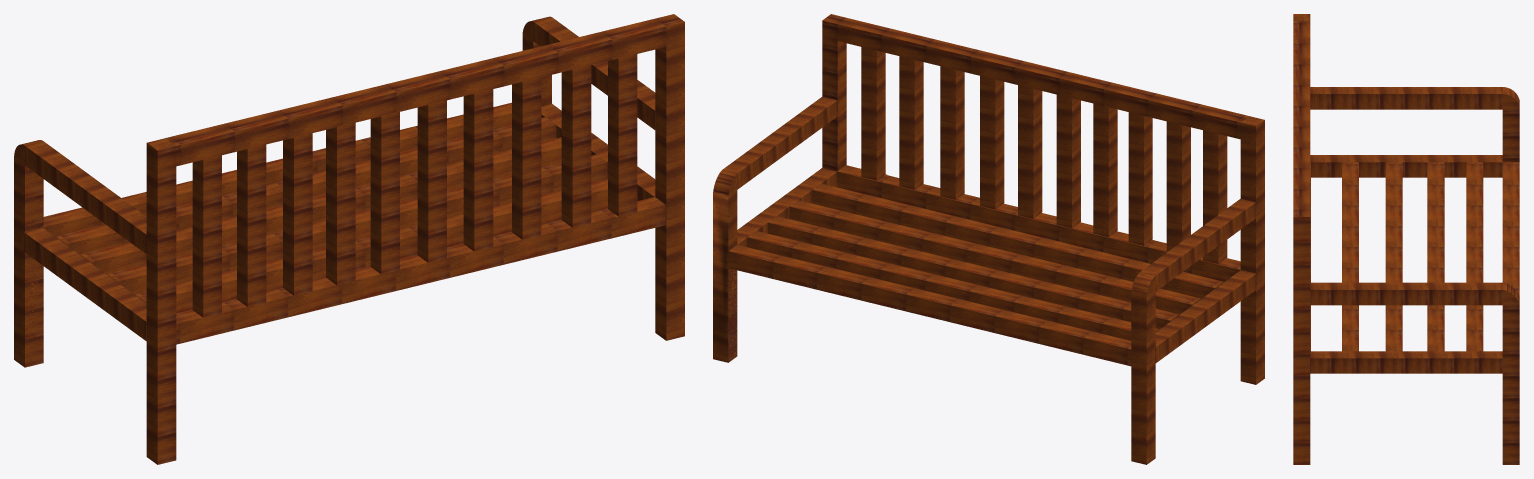
The picture shows the model from 3 angles, left to right: view 1: azimuth 30°, elevation 25°; view 2: azimuth 150°, elevation 25°; view 3: azimuth 270°, elevation 25°; orthographic projection. The views are drawn at different scales.
Visible parts, largest first — view 1: mesh91_mesh91-geometry, mesh48_mesh48-geometry, mesh46_mesh46-geometry, mesh93_mesh93-geometry, mesh26_mesh26-geometry, mesh58_mesh58-geometry, mesh41_mesh41-geometry, mesh31_mesh31-geometry, mesh74_mesh74-geometry, mesh1_mesh1-geometry, mesh6_mesh6-geometry, mesh69_mesh69-geometry (+12 smaller); view 2: mesh91_mesh91-geometry, mesh84_mesh84-geometry, mesh41_mesh41-geometry, mesh26_mesh26-geometry, mesh48_mesh48-geometry, mesh58_mesh58-geometry, mesh1_mesh1-geometry, mesh46_mesh46-geometry, mesh93_mesh93-geometry, mesh92_mesh92-geometry, mesh16_mesh16-geometry, mesh69_mesh69-geometry (+12 smaller); view 3: mesh91_mesh91-geometry, mesh89_mesh89-geometry, mesh65_mesh65-geometry, mesh67_mesh67-geometry, mesh63_mesh63-geometry, mesh92_mesh92-geometry, mesh58_mesh58-geometry, mesh1_mesh1-geometry, mesh26_mesh26-geometry, mesh41_mesh41-geometry, mesh84_mesh84-geometry, mesh93_mesh93-geometry.
Boxes of the visible parts, <box> form: mesh91_mesh91-geometry: <box>165,14,684,340</box>; mesh48_mesh48-geometry: <box>176,197,665,344</box>; mesh46_mesh46-geometry: <box>146,138,176,464</box>; mesh93_mesh93-geometry: <box>14,140,43,367</box>; mesh26_mesh26-geometry: <box>107,154,607,294</box>; mesh58_mesh58-geometry: <box>80,137,561,274</box>; mesh41_mesh41-geometry: <box>134,178,607,313</box>; mesh31_mesh31-geometry: <box>561,64,591,227</box>; mesh74_mesh74-geometry: <box>463,88,493,251</box>; mesh1_mesh1-geometry: <box>56,117,556,254</box>; mesh6_mesh6-geometry: <box>512,76,541,239</box>; mesh69_mesh69-geometry: <box>608,53,637,216</box>; mesh91_mesh91-geometry: <box>822,14,1249,171</box>; mesh84_mesh84-geometry: <box>728,245,1131,366</box>; mesh41_mesh41-geometry: <box>812,183,1223,298</box>; mesh26_mesh26-geometry: <box>789,200,1201,314</box>; mesh48_mesh48-geometry: <box>837,165,1240,281</box>; mesh58_mesh58-geometry: <box>767,216,1179,329</box>; mesh1_mesh1-geometry: <box>747,231,1159,340</box>; mesh46_mesh46-geometry: <box>1240,116,1264,384</box>; mesh93_mesh93-geometry: <box>1131,272,1155,464</box>; mesh92_mesh92-geometry: <box>713,170,737,362</box>; mesh16_mesh16-geometry: <box>1128,112,1152,245</box>; mesh69_mesh69-geometry: <box>861,47,885,180</box>; mesh91_mesh91-geometry: <box>1293,21,1310,464</box>; mesh89_mesh89-geometry: <box>1310,282,1502,305</box>; mesh65_mesh65-geometry: <box>1310,351,1502,373</box>; mesh67_mesh67-geometry: <box>1310,87,1502,109</box>; mesh63_mesh63-geometry: <box>1310,155,1502,177</box>; mesh92_mesh92-geometry: <box>1502,283,1519,464</box>; mesh58_mesh58-geometry: <box>1427,162,1444,351</box>; mesh1_mesh1-geometry: <box>1466,162,1483,351</box>; mesh26_mesh26-geometry: <box>1385,162,1402,351</box>; mesh41_mesh41-geometry: <box>1342,162,1358,351</box>; mesh84_mesh84-geometry: <box>1502,162,1519,296</box>; mesh93_mesh93-geometry: <box>1502,87,1519,162</box>.
Bounding box in the file's own units: 0.8042 × 0.4577 × 0.3791.
